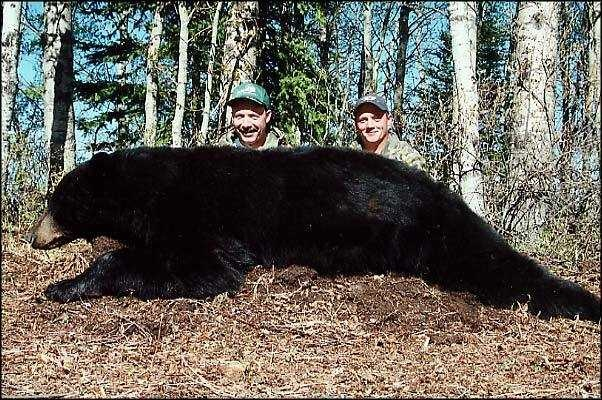bear: (20, 147, 149, 275), (471, 203, 599, 331)
